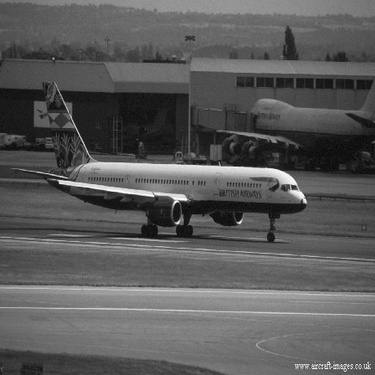airplane: (8, 74, 312, 246), (211, 82, 370, 172)
